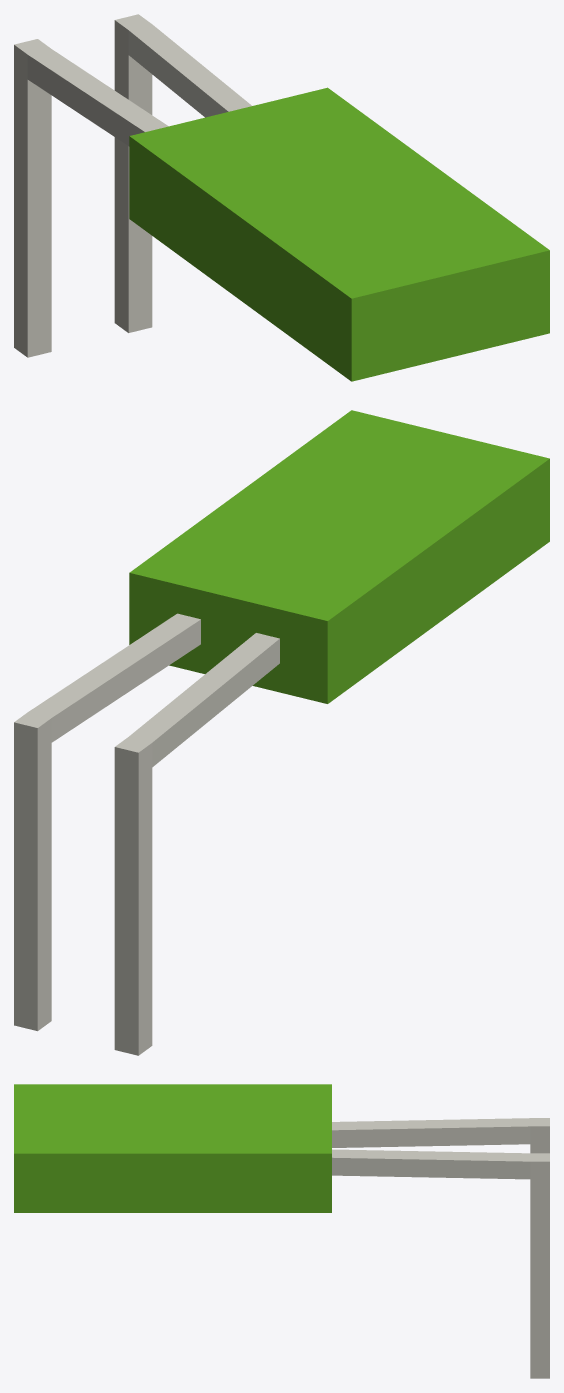
File: kc-led_rectangular_w5.0mm_h2.0mm_horizontal_o6.35mm_z5.0mm.glb
3 views of the same model, one above another, from view 1: azimuth 30°, elevation 25°; view 2: azimuth 150°, elevation 25°; view 3: azimuth 270°, elevation 25° (orthographic). The views are drawn at different scales.
Visible parts, largest first — view 1: 0.16666666666666666_0.4166666666666667_0_0, 0.6666666666666666_0.6666666666666666_0.5833333333333334_0.8; view 2: 0.16666666666666666_0.4166666666666667_0_0, 0.6666666666666666_0.6666666666666666_0.5833333333333334_0.8; view 3: 0.16666666666666666_0.4166666666666667_0_0, 0.6666666666666666_0.6666666666666666_0.5833333333333334_0.8.
Boxes of the visible parts, x1,y1,x2,y2 form: 0.16666666666666666_0.4166666666666667_0_0: (129, 87, 549, 381); 0.6666666666666666_0.6666666666666666_0.5833333333333334_0.8: (14, 14, 251, 357); 0.16666666666666666_0.4166666666666667_0_0: (129, 410, 549, 703); 0.6666666666666666_0.6666666666666666_0.5833333333333334_0.8: (14, 613, 279, 1055); 0.16666666666666666_0.4166666666666667_0_0: (14, 1084, 331, 1212); 0.6666666666666666_0.6666666666666666_0.5833333333333334_0.8: (332, 1118, 549, 1378).
Bounding box in the file's own units: 0.5 × 0.8 × 1.64.
